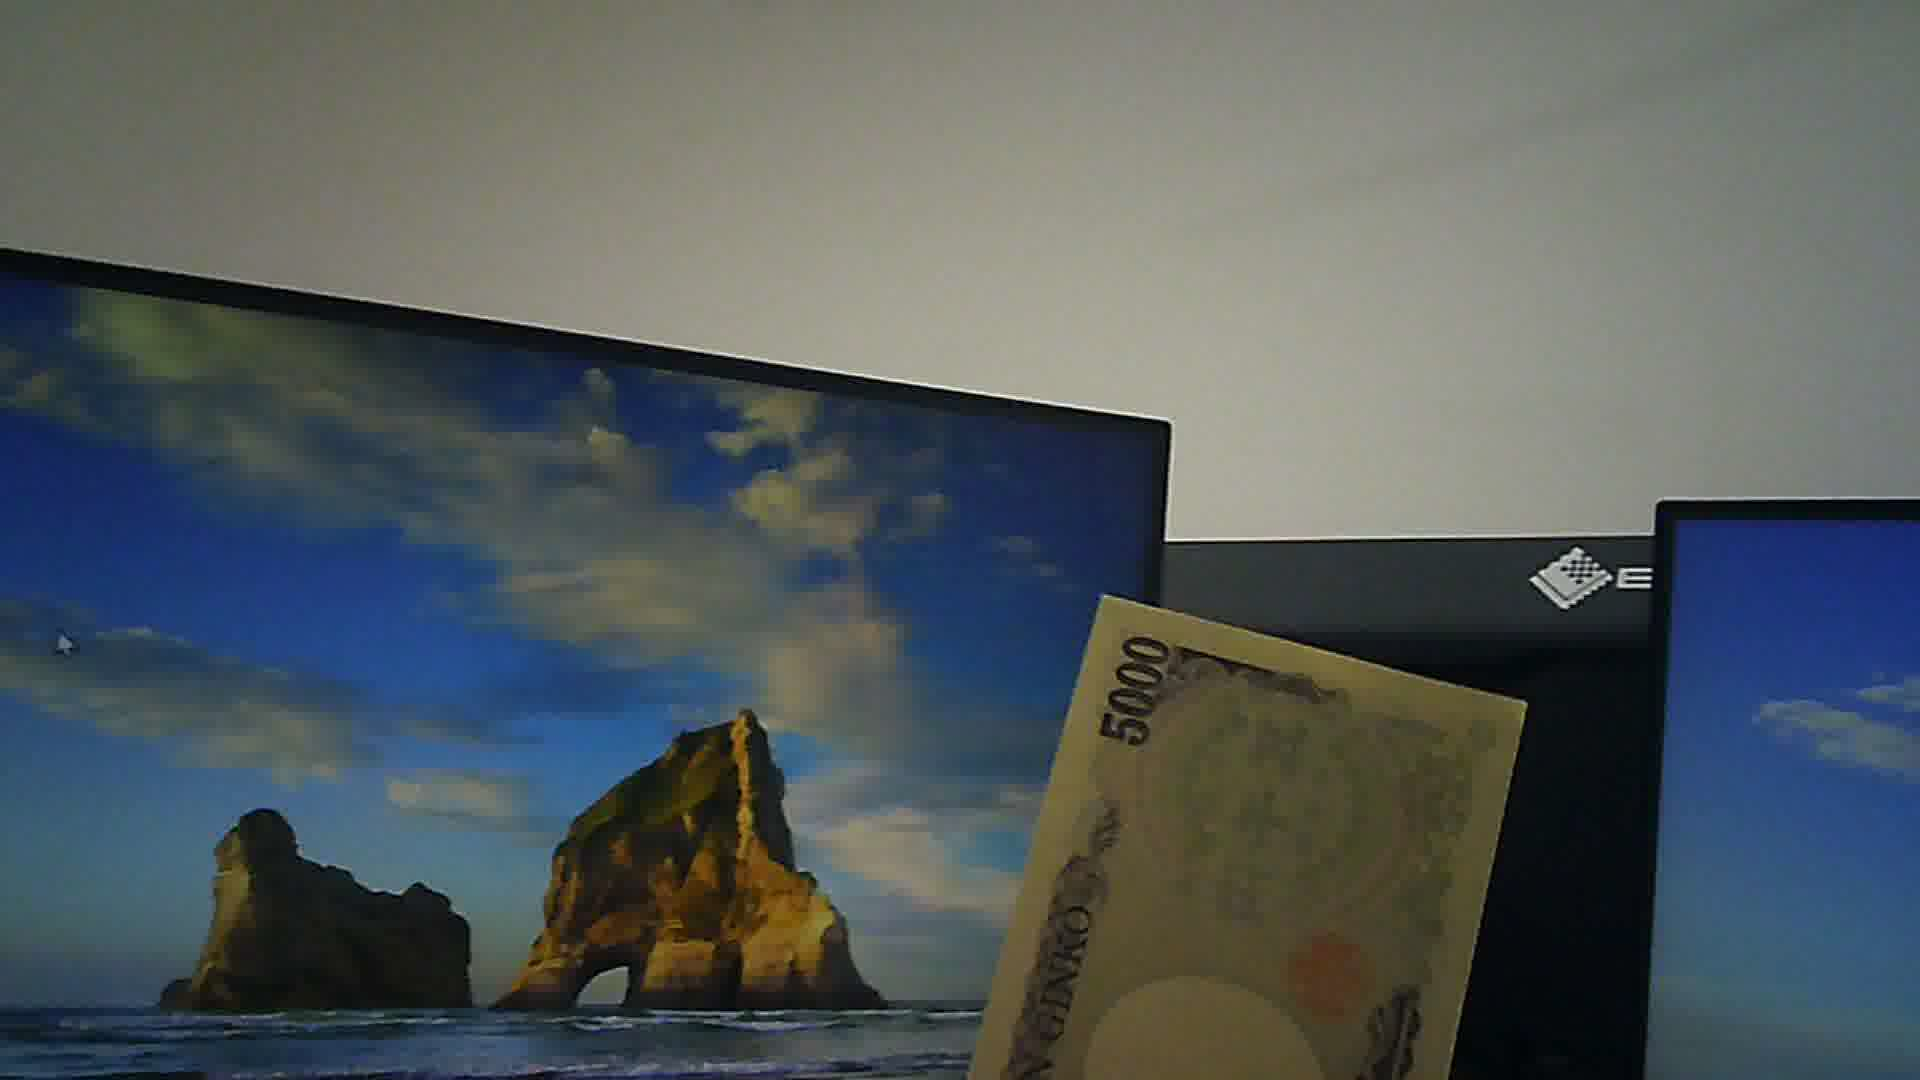5,000 Yen: (1006, 588, 1477, 1079)
